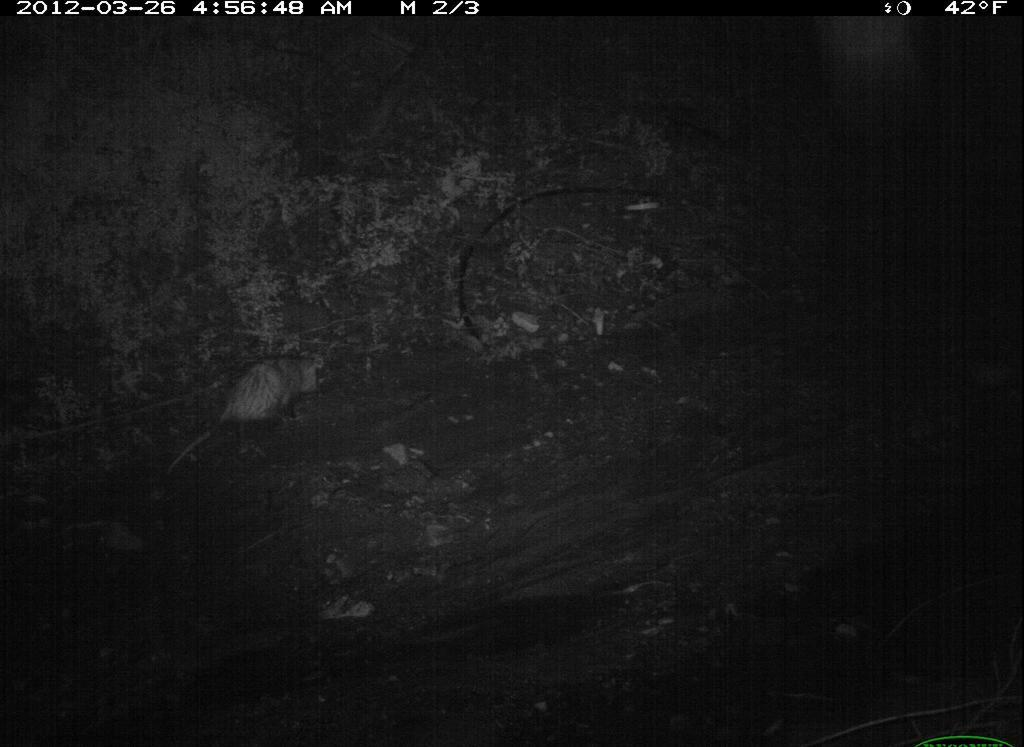opossum: (159, 351, 350, 466)
